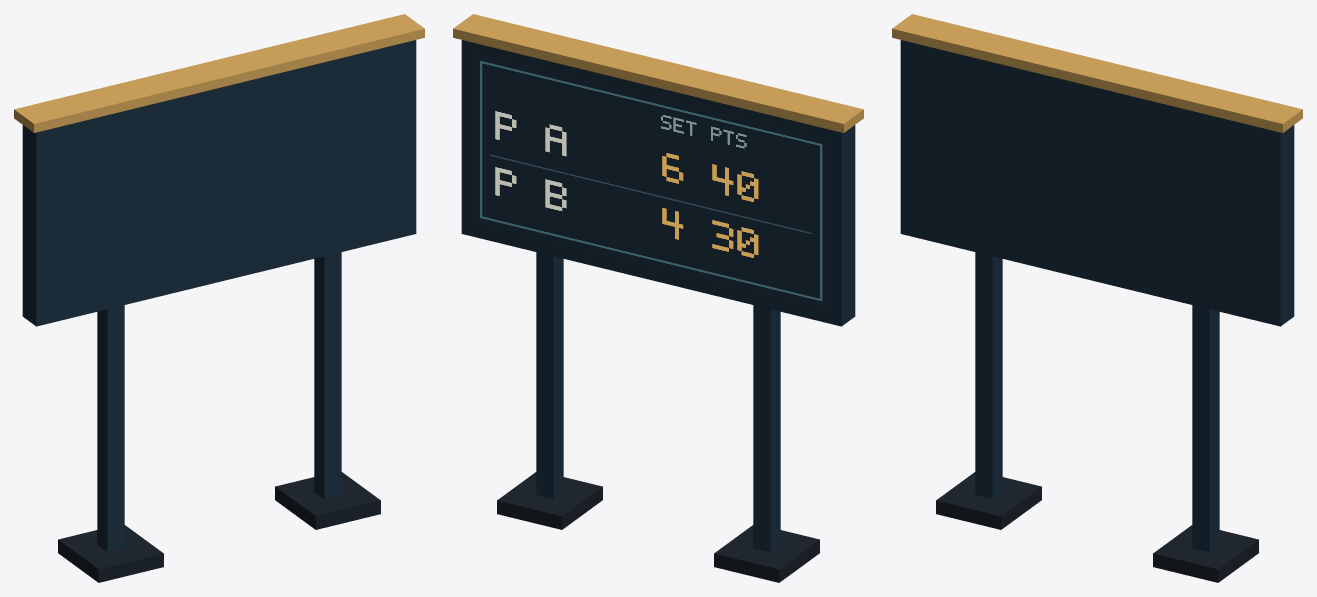
The model's file is scoreboard.glb.
3 renders of one model, left to right at view 1: azimuth 30°, elevation 25°; view 2: azimuth 150°, elevation 25°; view 3: azimuth 330°, elevation 25°, orthographic.
Visible parts, largest first — view 1: scoreboard; view 2: scoreboard; view 3: scoreboard.
Part boxes in pixels (x1,y1,x2,y2): scoreboard: [14, 14, 424, 582]; scoreboard: [453, 14, 863, 582]; scoreboard: [892, 14, 1302, 582].
Bounding box in the file's own units: 3.6 × 4.09 × 0.65.
4 materials, 1 textured.
